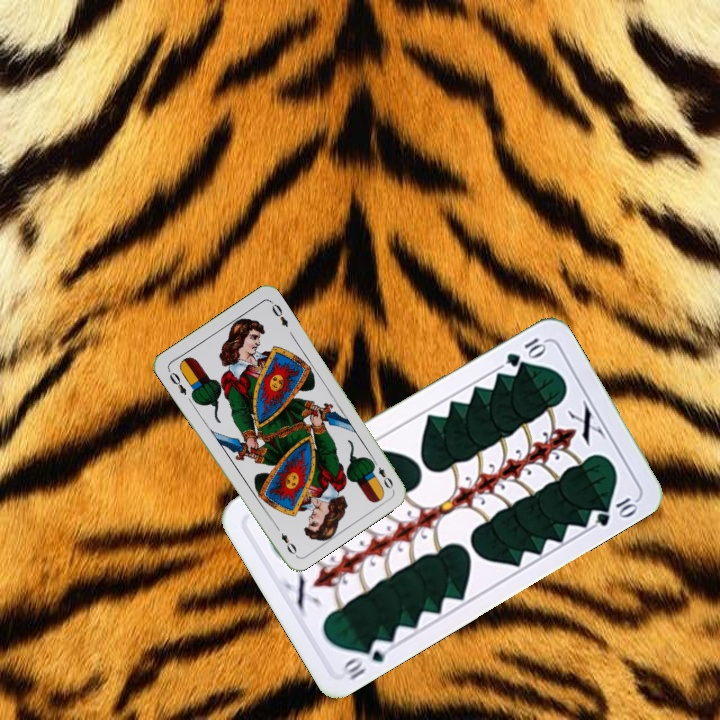EO: (368, 455, 396, 492), (165, 368, 189, 398)
G10: (338, 635, 394, 683), (502, 333, 549, 370)
